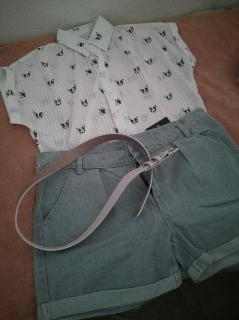short sleeve top: (0, 16, 232, 241)
shorts: (33, 107, 239, 319)
